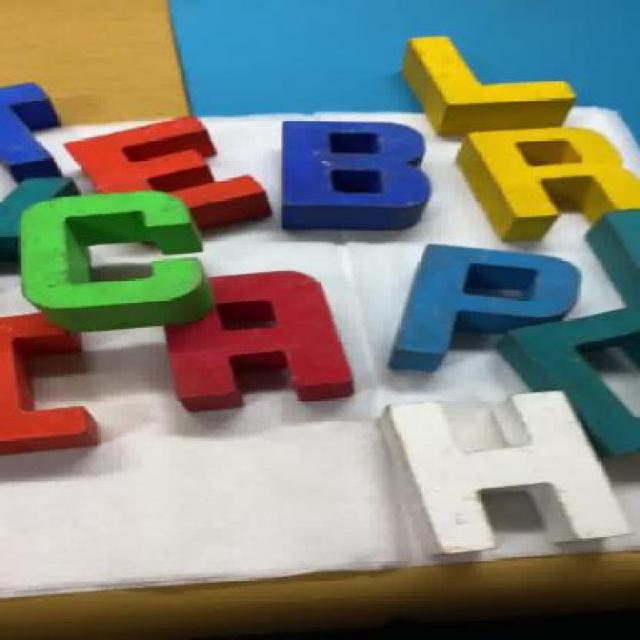A: (152, 267, 342, 415)
B: (272, 110, 431, 232)
C: (31, 183, 202, 340)
E: (76, 118, 286, 222)
H: (386, 389, 619, 546)
L: (394, 38, 595, 134)
P: (387, 242, 579, 369)
R: (441, 124, 639, 231)
